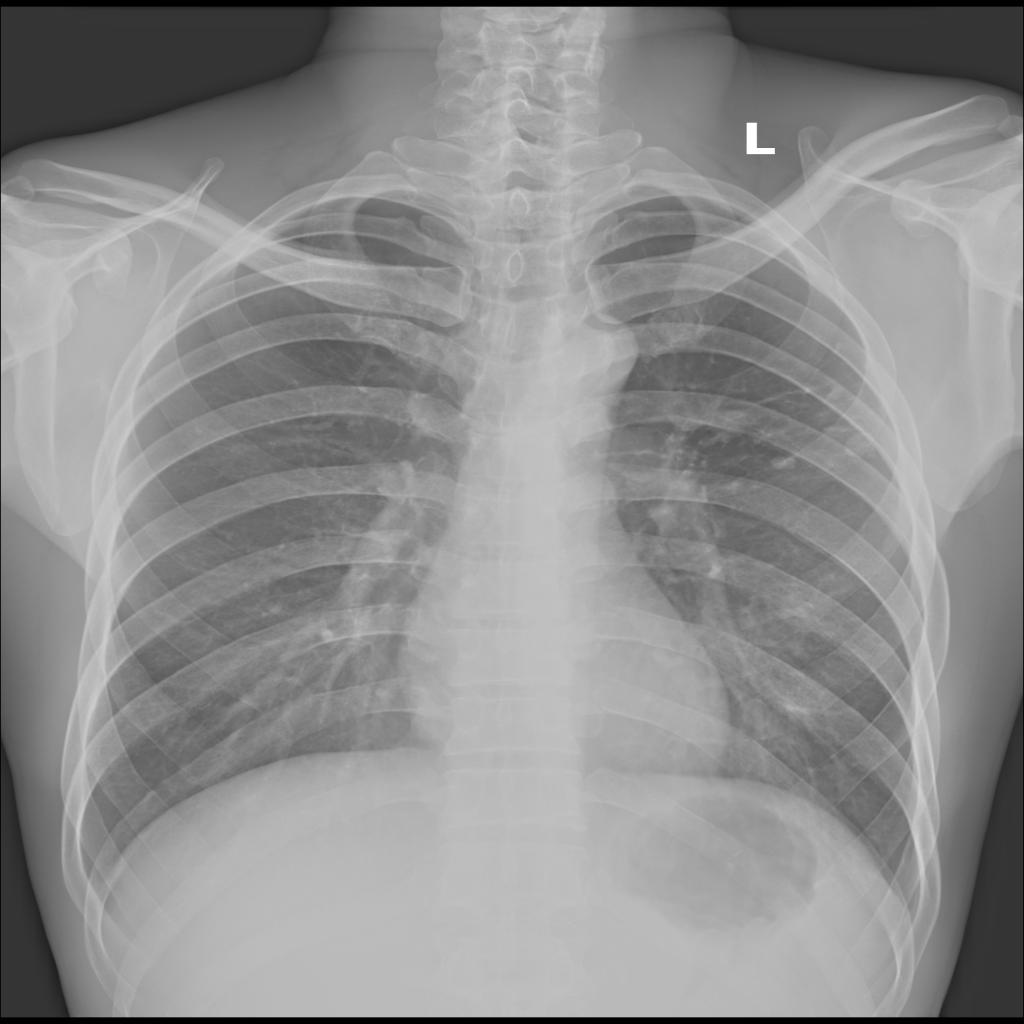Nodule: (847, 432, 877, 458)
